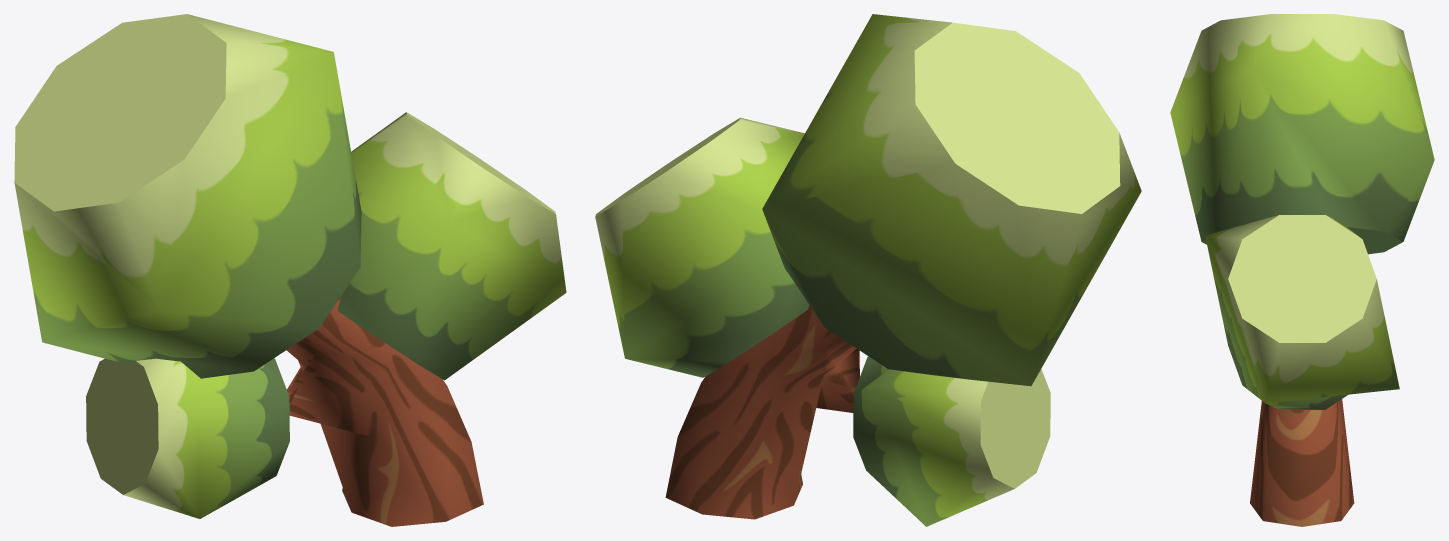
Rendered from arvore04low.FBX.
The picture shows the model from 3 angles, left to right: view 1: azimuth 30°, elevation 25°; view 2: azimuth 150°, elevation 25°; view 3: azimuth 270°, elevation 25°; orthographic projection. The views are drawn at different scales.
Parts seen in each view (by area): view 1: folhasArvore007, folhasArvore008, troncoArvore004, folhasArvore009; view 2: folhasArvore007, folhasArvore008, troncoArvore004, folhasArvore009; view 3: folhasArvore007, folhasArvore008, troncoArvore004.
Boxes of the visible parts, left/top/right/bottom form: folhasArvore007: left=14, top=14, right=361, bottom=378; folhasArvore008: left=337, top=112, right=566, bottom=380; troncoArvore004: left=286, top=297, right=483, bottom=526; folhasArvore009: left=86, top=358, right=289, bottom=518; folhasArvore007: left=762, top=14, right=1141, bottom=386; folhasArvore008: left=595, top=117, right=809, bottom=377; troncoArvore004: left=665, top=305, right=859, bottom=519; folhasArvore009: left=853, top=356, right=1050, bottom=526; folhasArvore007: left=1170, top=14, right=1434, bottom=254; folhasArvore008: left=1205, top=215, right=1399, bottom=409; troncoArvore004: left=1250, top=399, right=1354, bottom=526.
Bounding box in the file's own units: 201 × 196 × 115.
